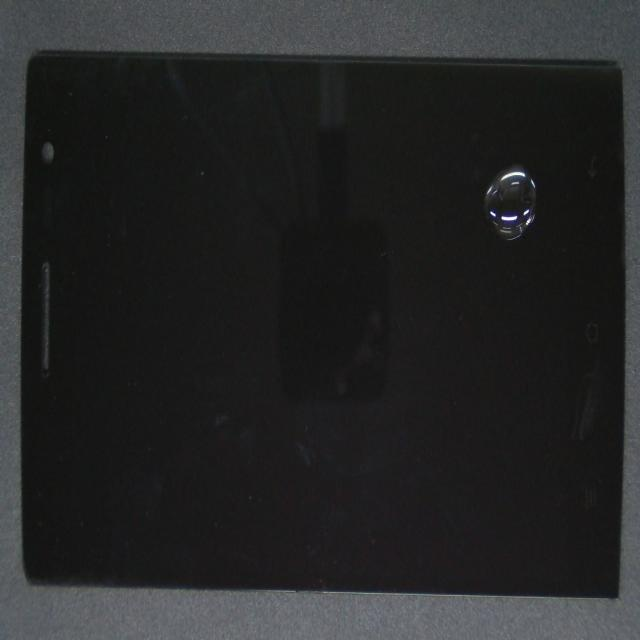oil: (267, 65, 640, 263)
